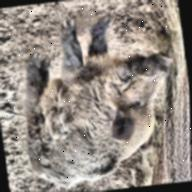boar: (8, 7, 188, 192)
